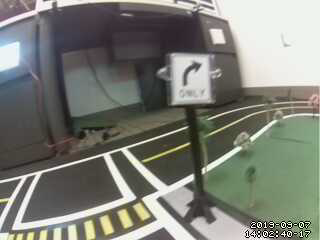Right_only_sign: (166, 54, 212, 99)
